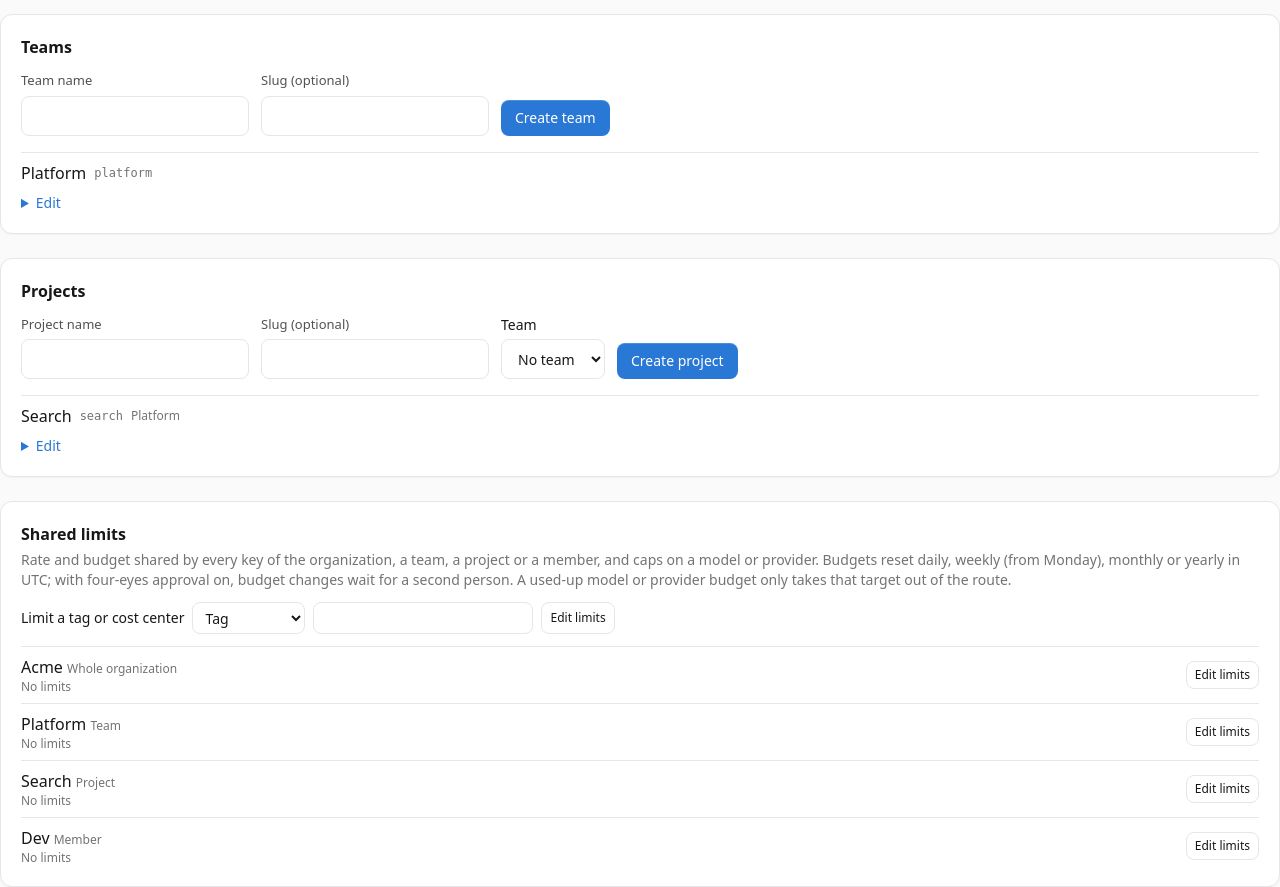
Scenario: team and project limits on the organization page (card 25.5) › says when a budget change waits for a second person
(page scrolled)
Step 1. Click the button with aria-label "Edit limits Search" → click(1222, 789), box [1186,775,1259,803]
(page scrolled)
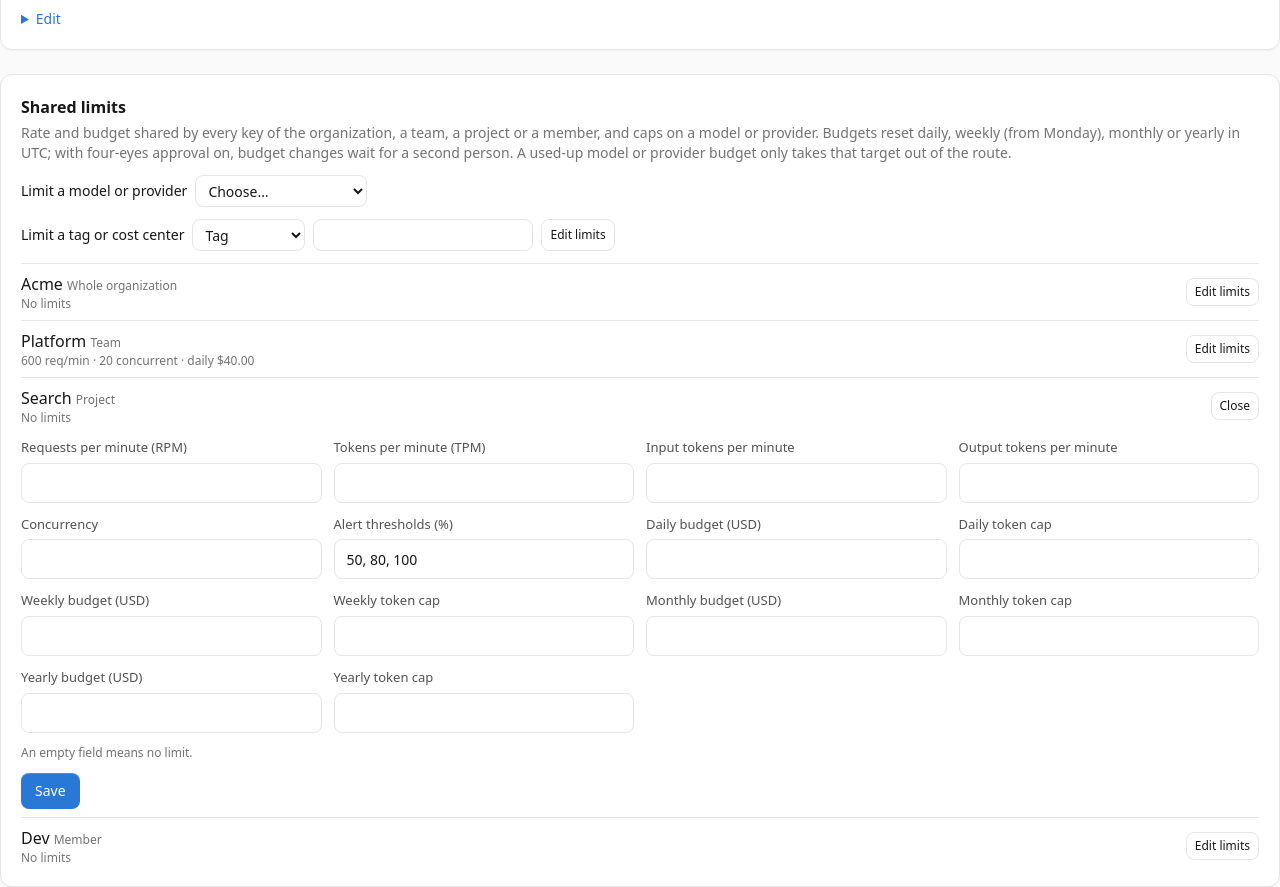
Step 2. Type "5" into the field labelled "Daily budget (USD)" → (796, 559), box [646,539,946,579]
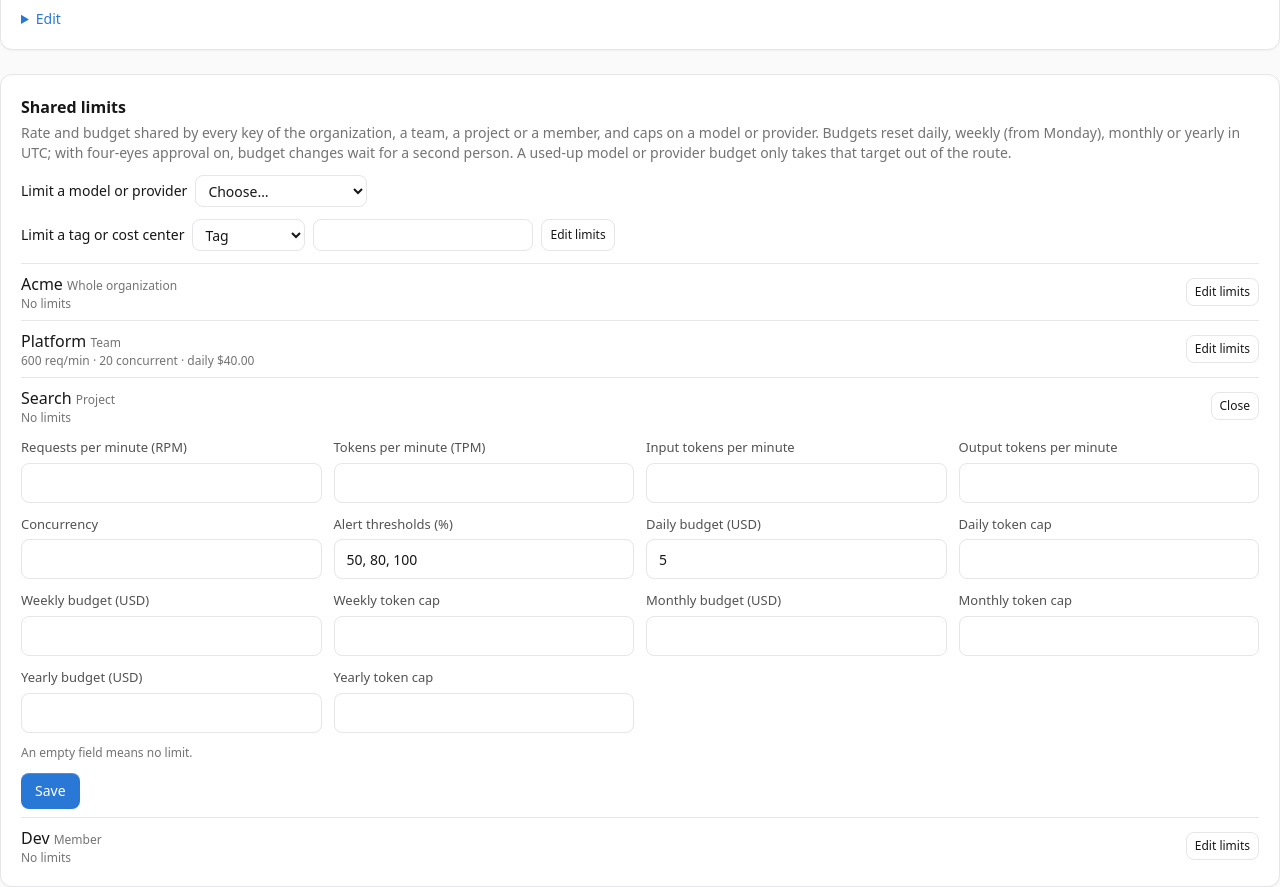
Step 3. Click the button "Save" → click(50, 790), box [21,772,80,808]
(page scrolled)
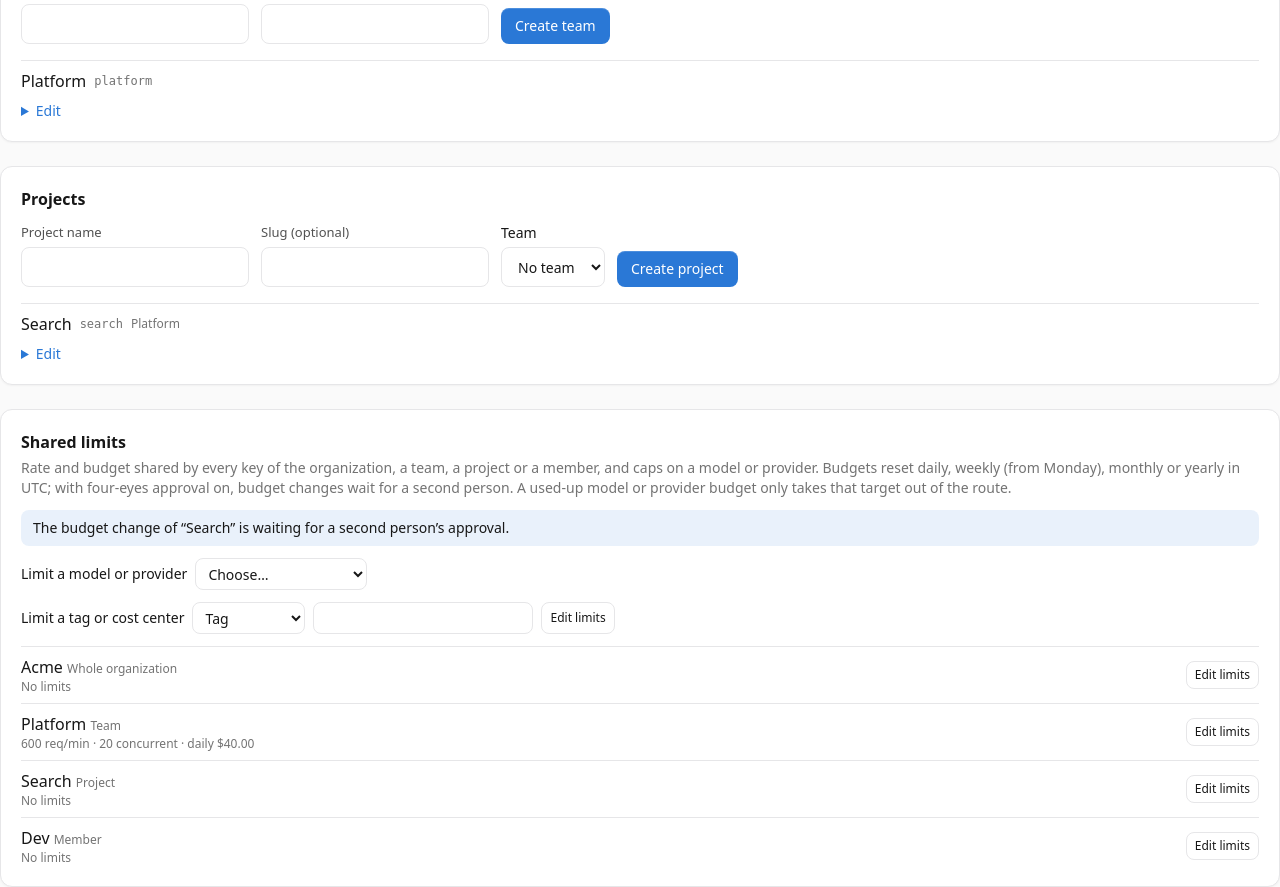
Check: the message reads "The budget change of “Search” is waiting for a second person’s approval.", box [33,518,509,537]
